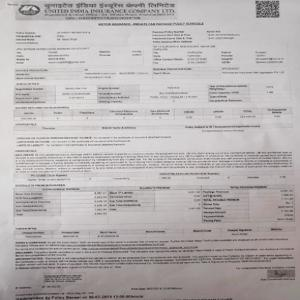table: (10, 184, 296, 225), (13, 106, 292, 134), (15, 77, 291, 104)
text: (10, 25, 285, 65), (12, 136, 297, 173), (13, 238, 295, 271)
